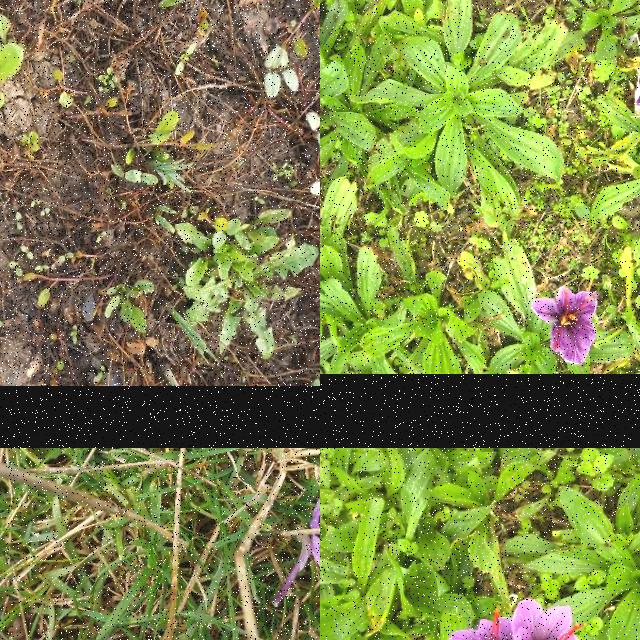flower: (533, 286, 599, 366), (512, 599, 584, 640), (447, 608, 512, 640)
